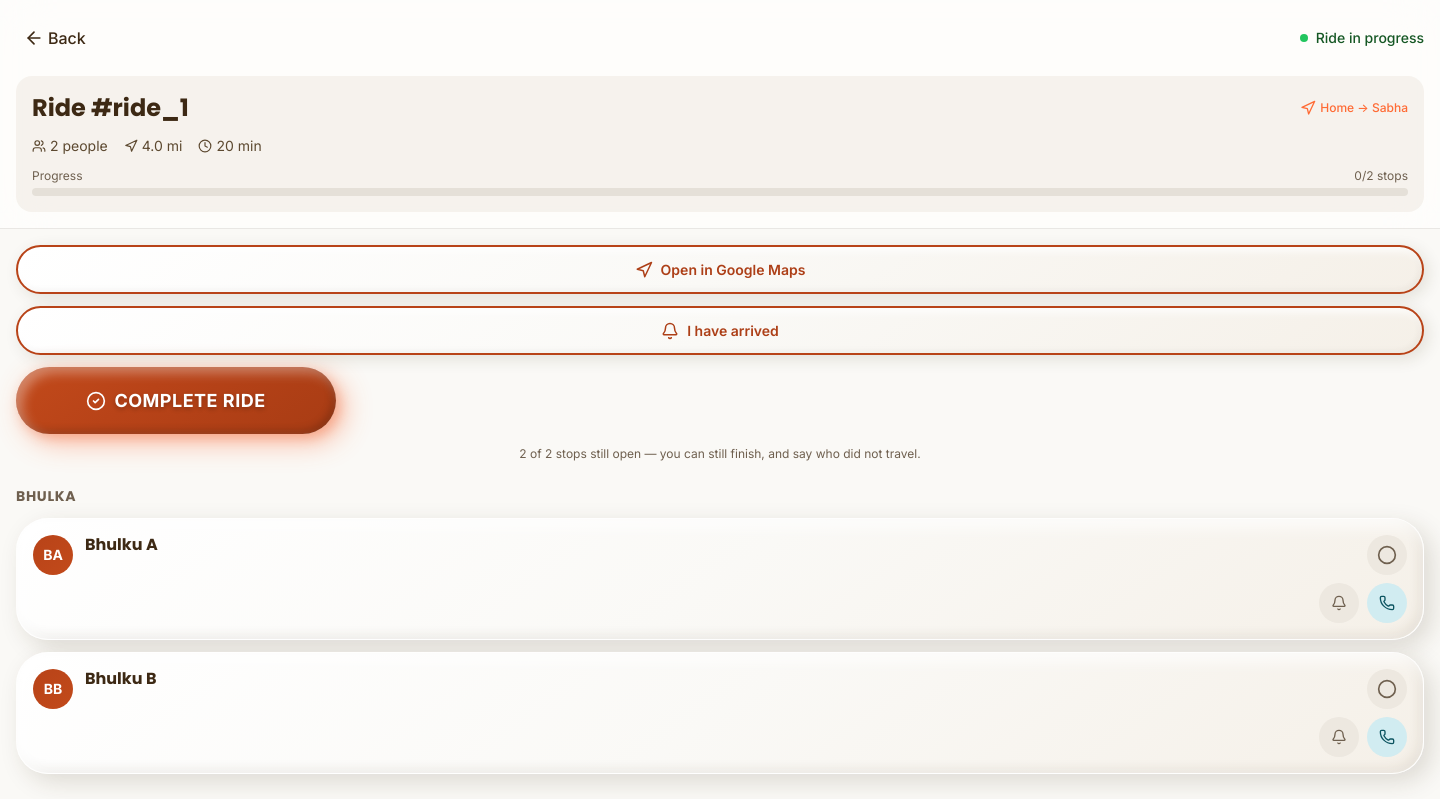
the roster is the record › says plainly what happens if nobody is ticked
Click the button "Complete Ride" at (176, 400), box [16,367,336,434]
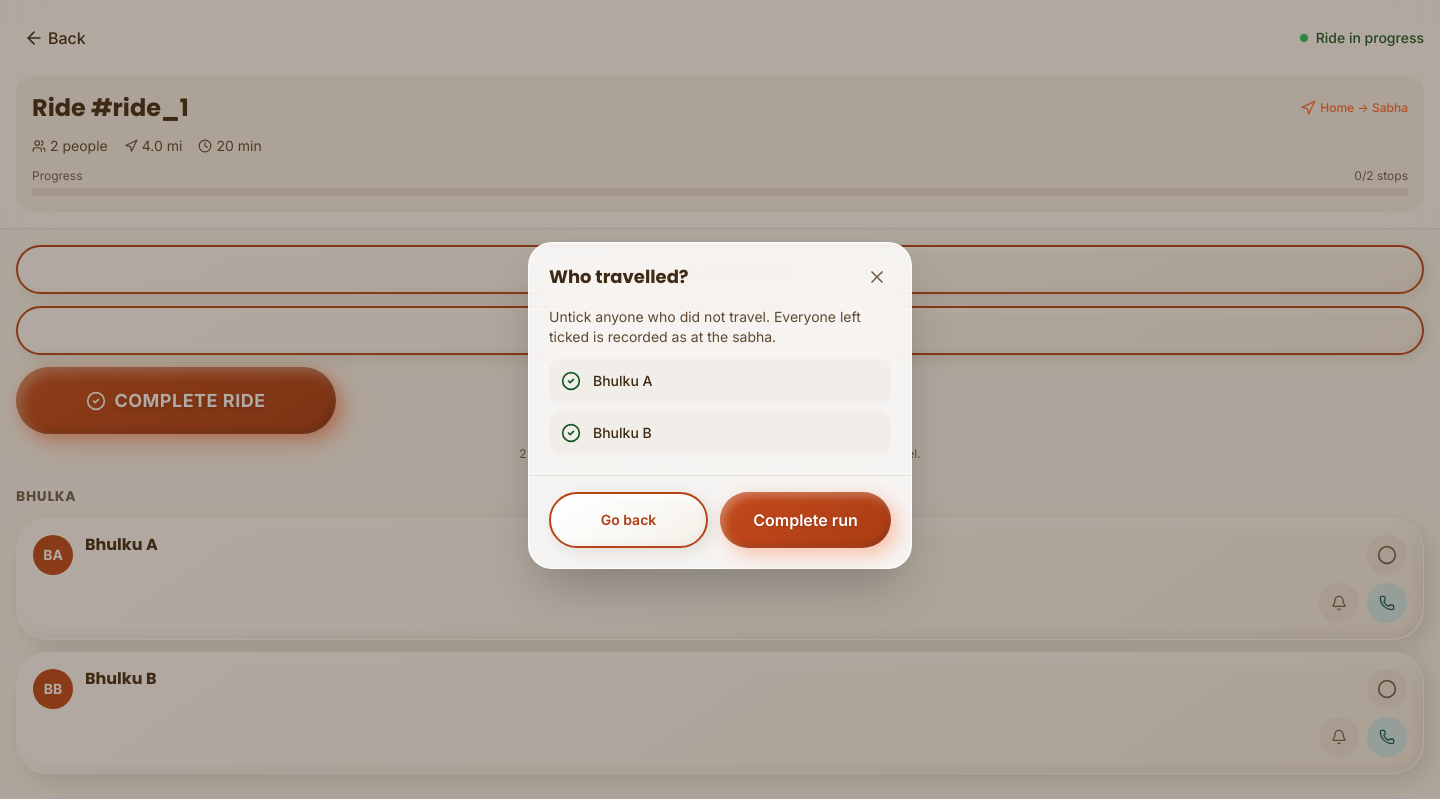
Click the button with aria-label "Bhulku A travelled" at (623, 380), box [549,358,891,402]
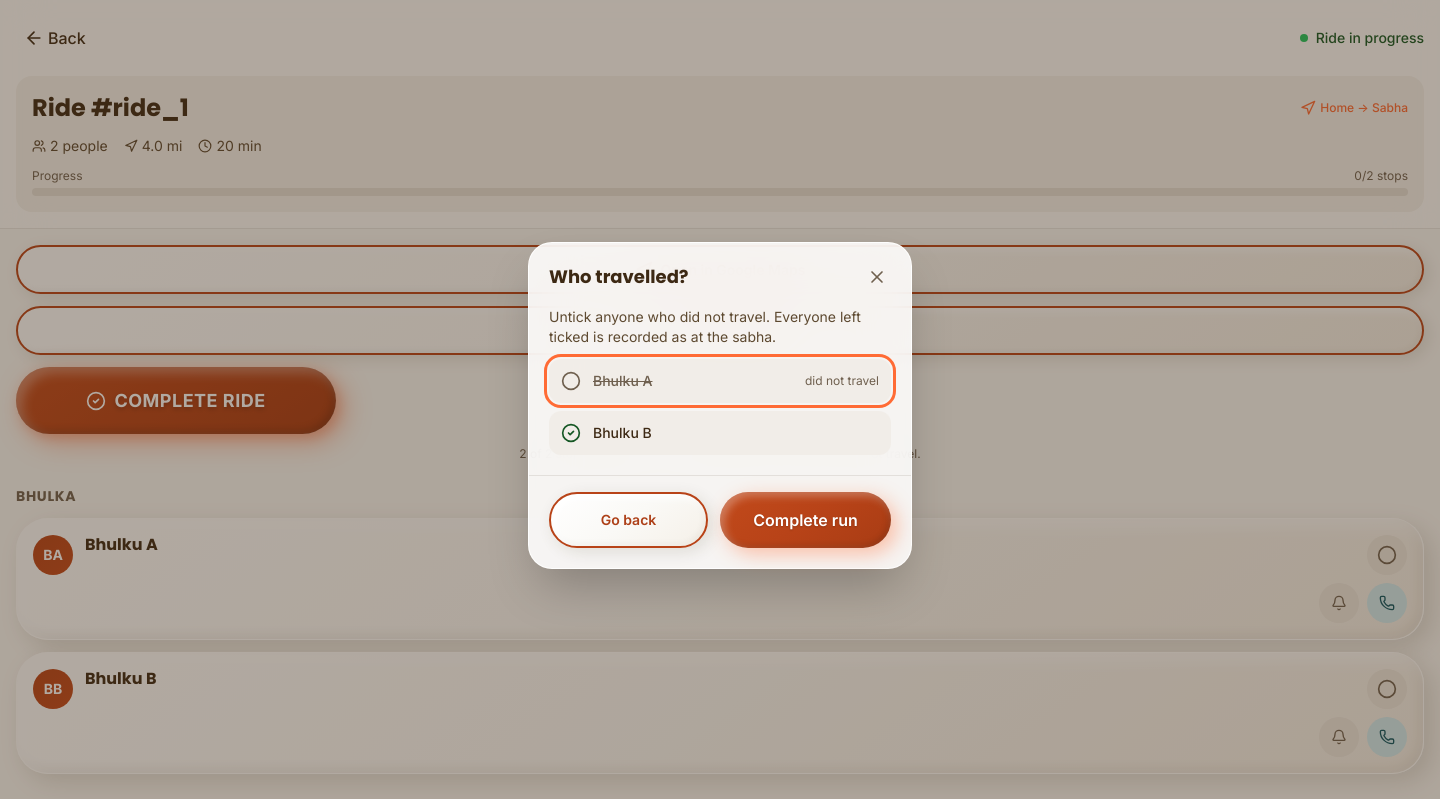
Click the button with aria-label "Bhulku B travelled" at (622, 432), box [549,410,891,454]
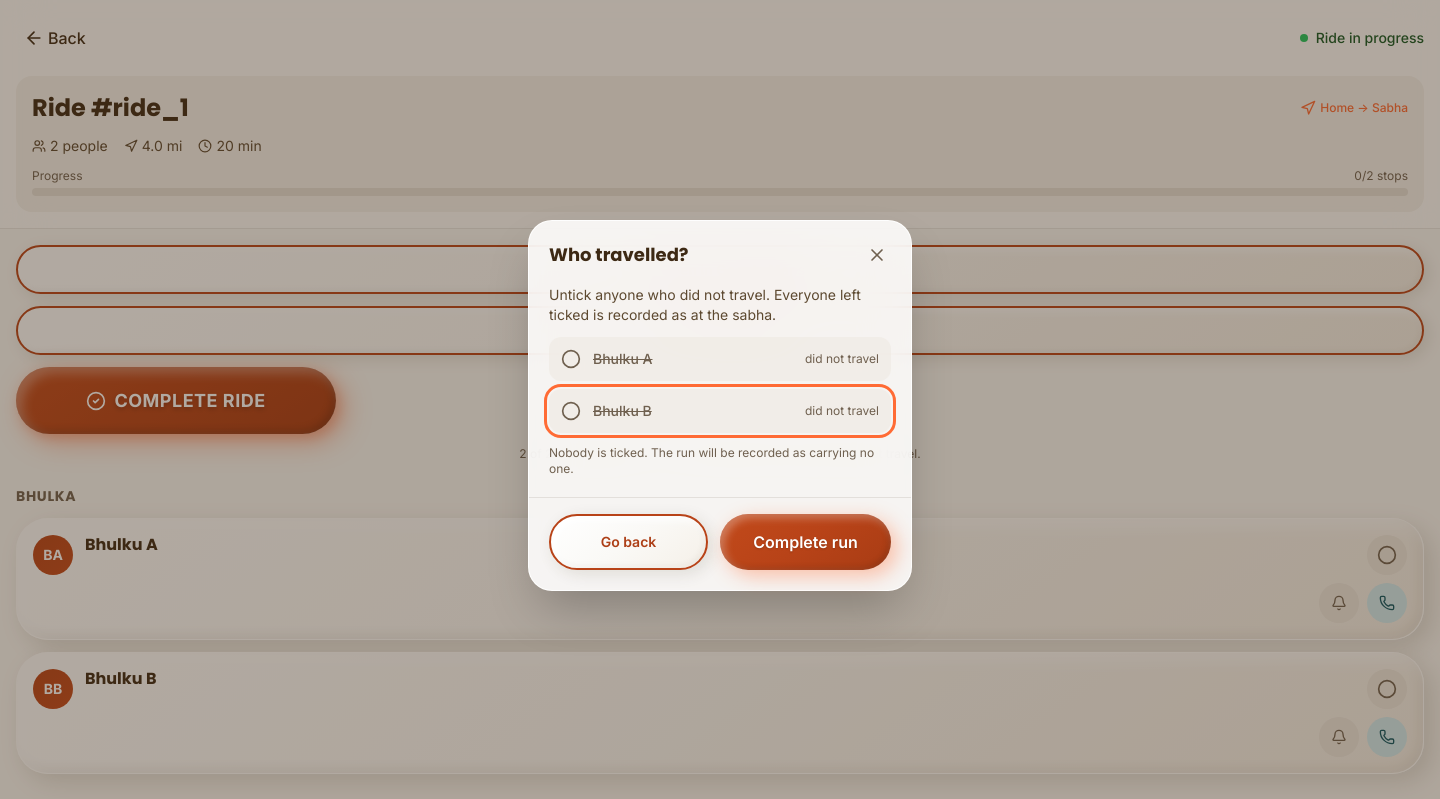
expect the text "carrying no one" is shown: met, box [549,444,874,476]
